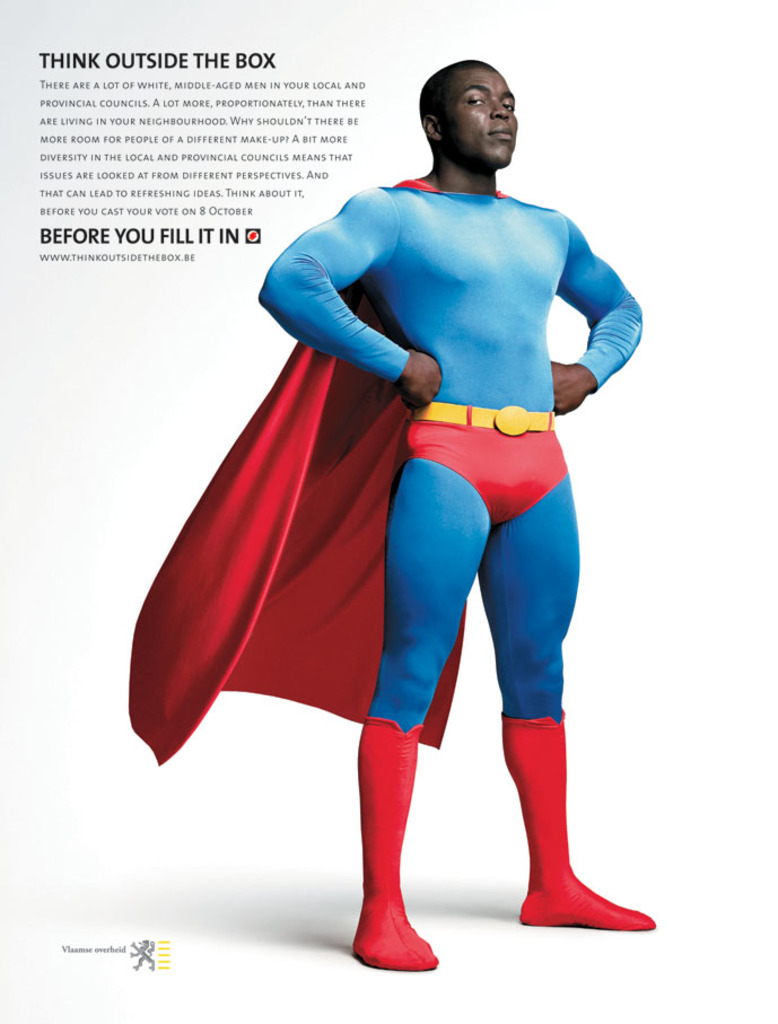Person: (127, 56, 659, 974)
